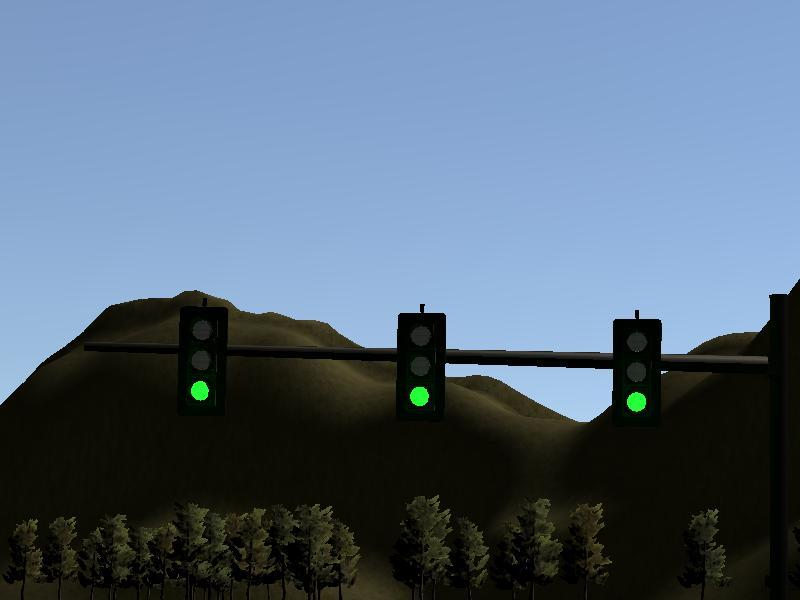Green: (177, 305, 227, 417), (612, 319, 662, 431), (396, 312, 446, 424)
